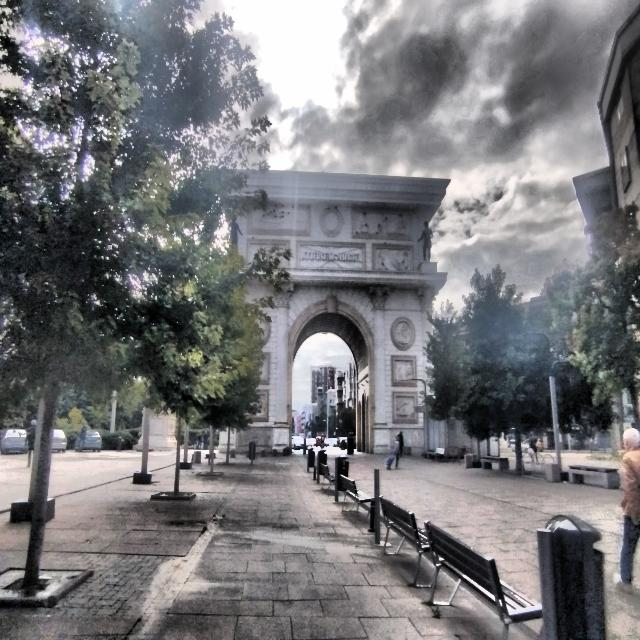triumphal arch: (193, 148, 452, 468)
